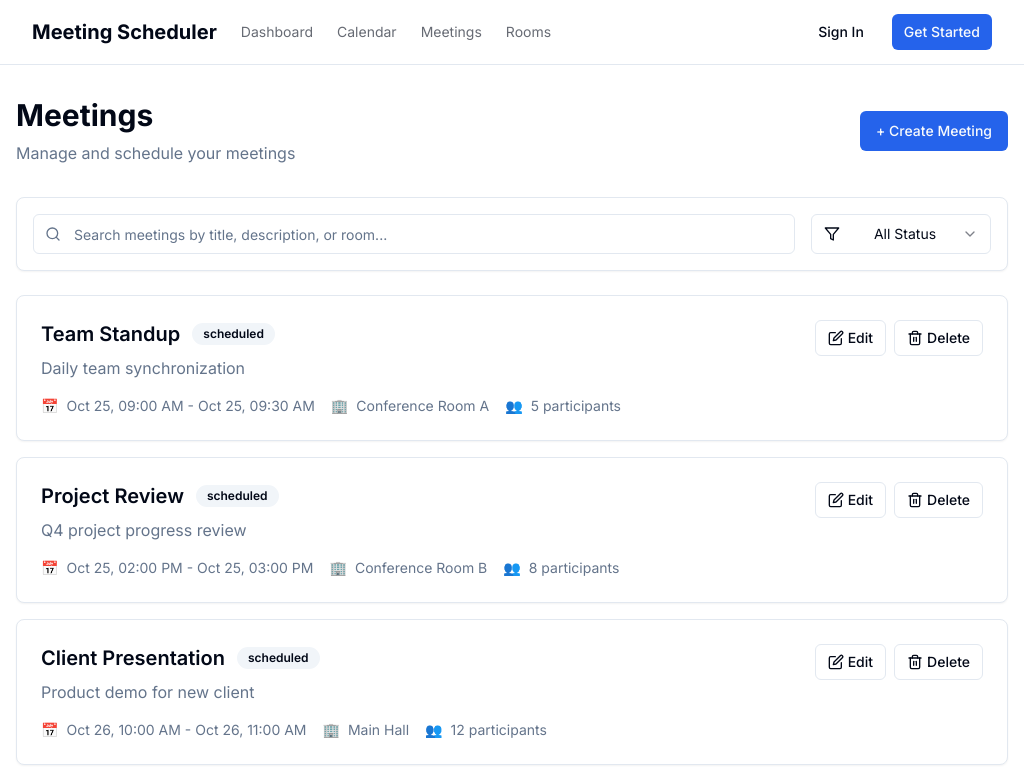
MeetingsPage › opens edit form when edit button is clicked
What coordinates should you click on to do the following:
click the button "Edit" in the row of "Team Standup"
I would click on:
 (850, 338)
Its box is left=815, top=320, right=886, bottom=356.
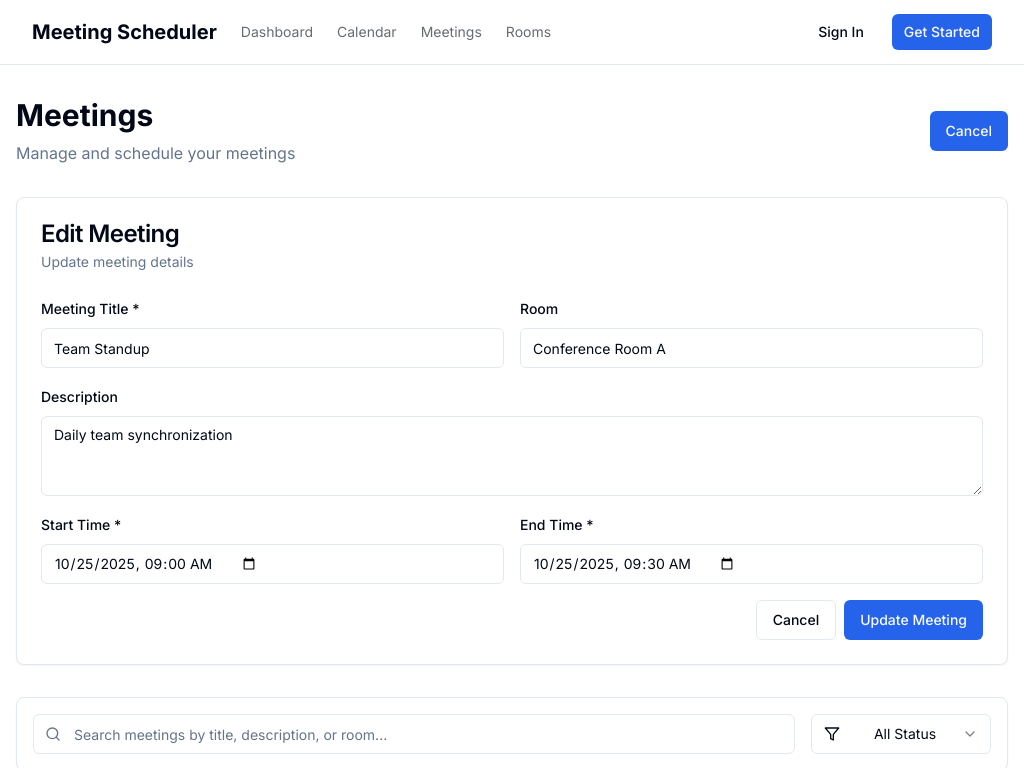
Check: the heading "Edit Meeting" is shown, box left=41, top=219, right=179, bottom=248
Check: the field showing "Team Standup" is shown, box left=41, top=328, right=504, bottom=368
